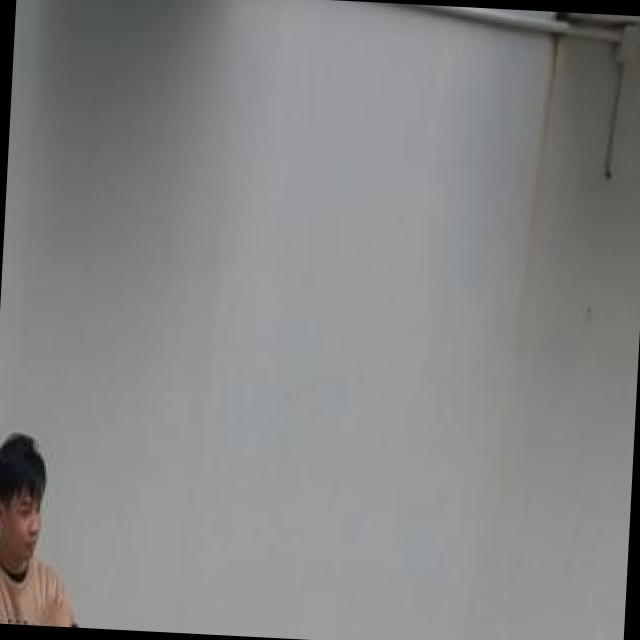Guns: (51, 604, 122, 630)
